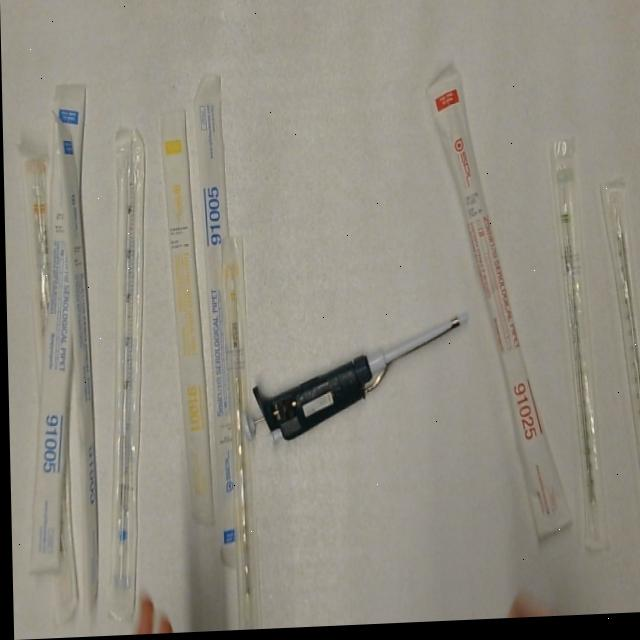Serelogical Pipet 1 mL - Sealed: (155, 102, 215, 535), (215, 231, 262, 633)
Serelogical Pipet 10 mL - Sealed: (17, 140, 62, 381)
Serelogical Pipet 2 mL - Sealed: (547, 136, 616, 564)
Serelogical Pipet 25 mL - Sealed: (424, 67, 573, 560)
Serelogical Pipet 5 mL - Sealed: (16, 76, 98, 580), (92, 125, 158, 628), (189, 68, 254, 575), (49, 109, 102, 615)
Single Channel Pipettor: (234, 314, 474, 452)
